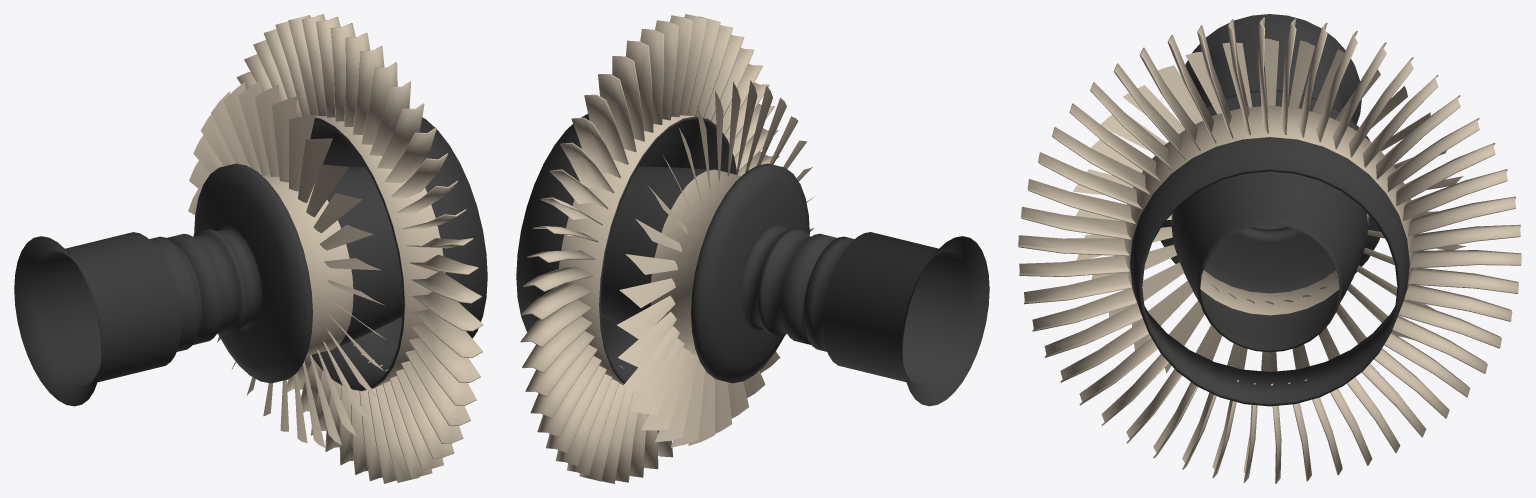
The model's file is 3_medium_pressure_turbine.FBX.
The picture shows the model from 3 angles, left to right: view 1: azimuth 30°, elevation 25°; view 2: azimuth 150°, elevation 25°; view 3: azimuth 270°, elevation 25°; orthographic projection. The views are drawn at different scales.
Visible parts, largest first — view 1: 3_medium_pressure_turbine, medium_turbine_blades; view 2: 3_medium_pressure_turbine, medium_turbine_blades; view 3: medium_turbine_blades, 3_medium_pressure_turbine.
Part boxes in pixels (x1,y1,x2,y2): 3_medium_pressure_turbine: [14, 115, 487, 406]; medium_turbine_blades: [188, 14, 483, 483]; 3_medium_pressure_turbine: [516, 114, 989, 406]; medium_turbine_blades: [520, 14, 813, 483]; medium_turbine_blades: [1018, 17, 1521, 483]; 3_medium_pressure_turbine: [1123, 14, 1415, 406].
Size of the model in its own units: 1.05 by 1.17 by 1.17.
